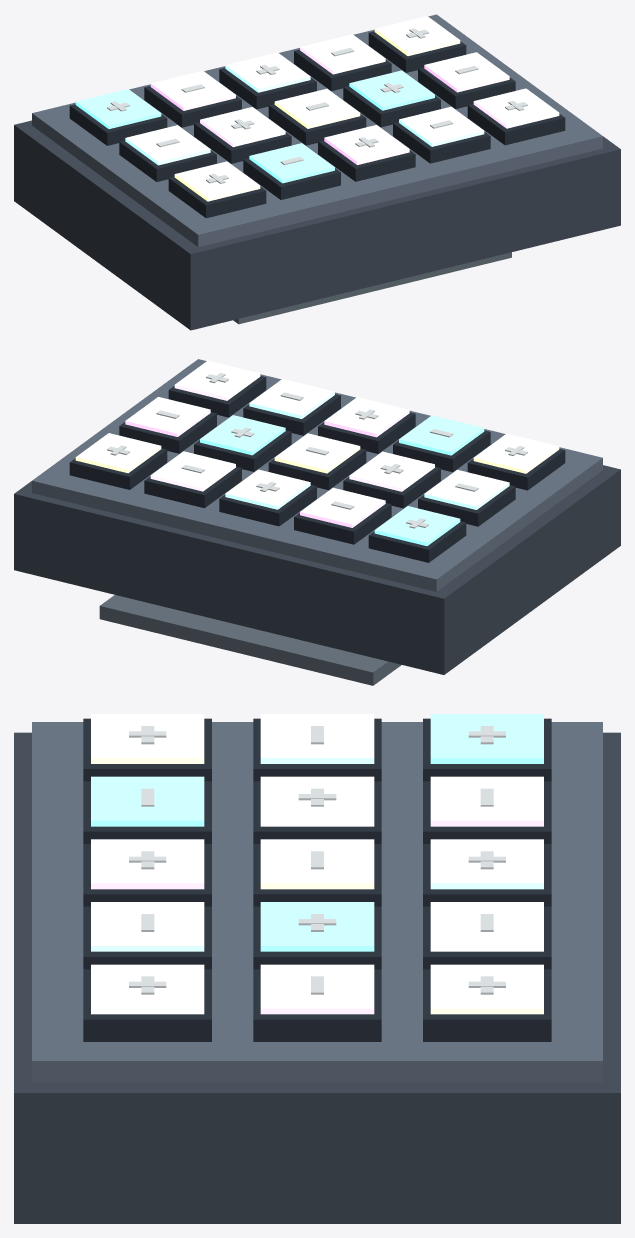
The model's file is elgato-stream-deck-mk2.glb.
The picture shows the model from 3 angles, top to bottom: view 1: azimuth 30°, elevation 25°; view 2: azimuth 150°, elevation 25°; view 3: azimuth 270°, elevation 25°; orthographic projection. The views are drawn at different scales.
Visible parts, largest first — view 1: housing-0, face_plate-1, LCD_key_4-14, LCD_key_6-21, LCD_key_8-28, LCD_key_10-35, LCD_key_12-42, LCD_key_2-7, LCD_key_14-49, LCD_key_1-3, LCD_key_15-52, LCD_key_5-17 (+21 smaller); view 2: housing-0, face_plate-1, stand_foot-55, LCD_key_12-42, LCD_key_8-28, LCD_key_2-7, LCD_key_10-35, LCD_key_4-14, LCD_key_6-21, LCD_key_14-49, LCD_key_11-38, LCD_key_9-31 (+21 smaller); view 3: housing-0, face_plate-1, LCD_key_8-28, LCD_key_10-35, LCD_key_2-7, LCD_key_12-42, LCD_key_6-21, LCD_key_7-24, LCD_key_4-14, LCD_key_14-49, LCD_key_3-10, LCD_key_13-45 (+20 smaller).
Boxes of the visible parts, box(x1,y1,x2,y2) form: housing-0: box(14, 120, 620, 330); face_plate-1: box(32, 14, 602, 247); LCD_key_4-14: box(300, 34, 385, 74); LCD_key_6-21: box(125, 125, 210, 165); LCD_key_8-28: box(274, 88, 360, 128); LCD_key_10-35: box(424, 52, 509, 92); LCD_key_12-42: box(249, 143, 334, 183); LCD_key_2-7: box(150, 70, 235, 110); LCD_key_14-49: box(399, 106, 484, 146); LCD_key_1-3: box(75, 89, 161, 128); LCD_key_15-52: box(473, 88, 559, 128); LCD_key_5-17: box(374, 16, 460, 56); housing-0: box(14, 465, 620, 674); face_plate-1: box(32, 359, 602, 591); stand_foot-55: box(99, 595, 401, 685); LCD_key_12-42: box(399, 415, 484, 455); LCD_key_8-28: box(274, 433, 360, 473); LCD_key_2-7: box(300, 487, 385, 527); LCD_key_10-35: box(125, 397, 210, 436); LCD_key_4-14: box(150, 451, 235, 491); LCD_key_6-21: box(424, 469, 509, 509); LCD_key_14-49: box(249, 379, 334, 418); LCD_key_11-38: box(473, 433, 559, 473); LCD_key_9-31: box(200, 415, 285, 455); housing-0: box(14, 732, 620, 1223); face_plate-1: box(32, 722, 602, 1082); LCD_key_8-28: box(260, 839, 374, 889); LCD_key_10-35: box(260, 964, 374, 1014); LCD_key_2-7: box(430, 776, 543, 826); LCD_key_12-42: box(91, 776, 204, 826); LCD_key_6-21: box(260, 714, 374, 763); LCD_key_7-24: box(260, 776, 374, 826); LCD_key_4-14: box(430, 902, 543, 951); LCD_key_14-49: box(91, 902, 204, 951); LCD_key_3-10: box(430, 839, 543, 889); LCD_key_13-45: box(91, 839, 204, 889).
Size of the model in its own units: 1.18 by 0.375 by 0.84.
